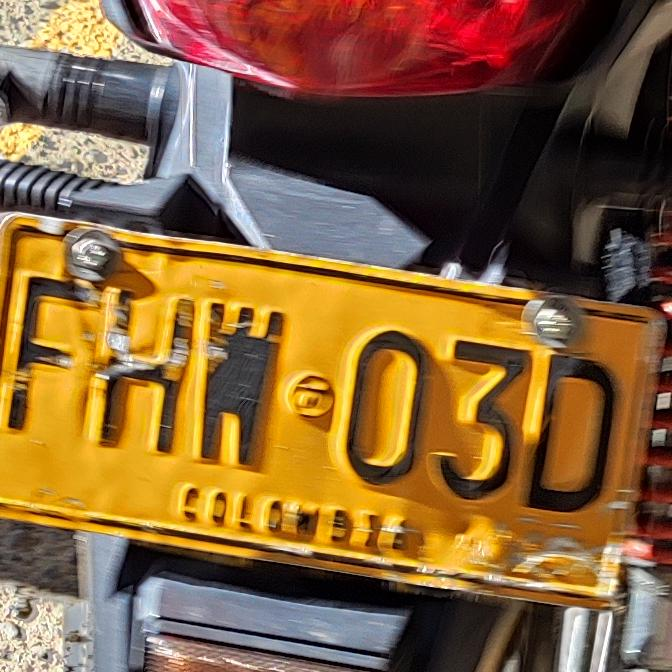plates: (0, 213, 655, 619)
